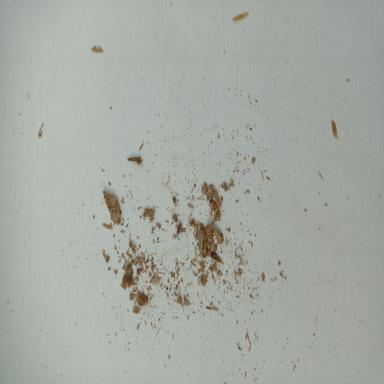pbw: (210, 224, 224, 242), (208, 249, 223, 264), (199, 229, 207, 256), (231, 12, 249, 21), (213, 189, 221, 206), (209, 199, 218, 214), (127, 156, 142, 165), (176, 222, 182, 240), (332, 120, 338, 138), (177, 295, 184, 310), (102, 222, 113, 230), (172, 196, 179, 207), (183, 295, 190, 305), (206, 238, 211, 249)
